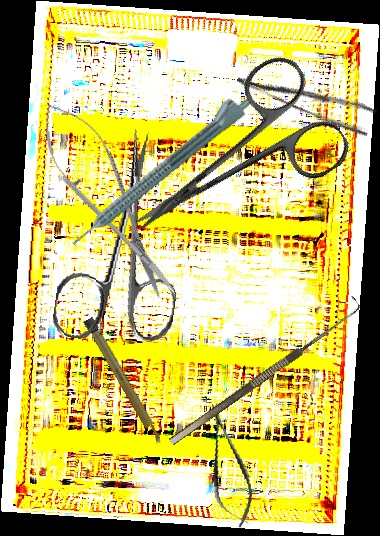Dressing Forceps: (235, 54, 378, 140)
Handpiece: (62, 85, 257, 251)
Hook Surgical: (161, 295, 365, 446)
Iris Scissors: (101, 47, 357, 275), (50, 121, 199, 352)
Micro Scissor: (23, 89, 192, 310), (197, 398, 260, 532)
Scalpel Handle: (82, 316, 165, 447)
